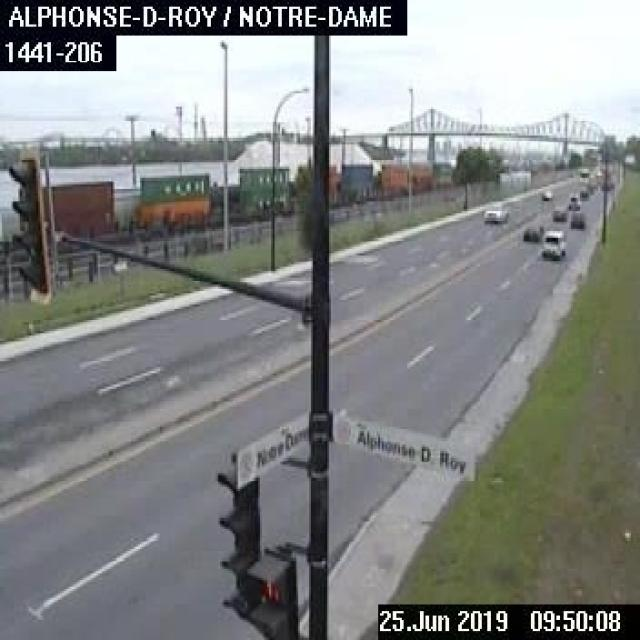vehicle: (537, 228, 566, 258), (520, 222, 545, 242), (568, 208, 586, 230), (484, 207, 507, 222), (550, 203, 567, 221), (565, 190, 580, 209), (536, 187, 551, 200)
